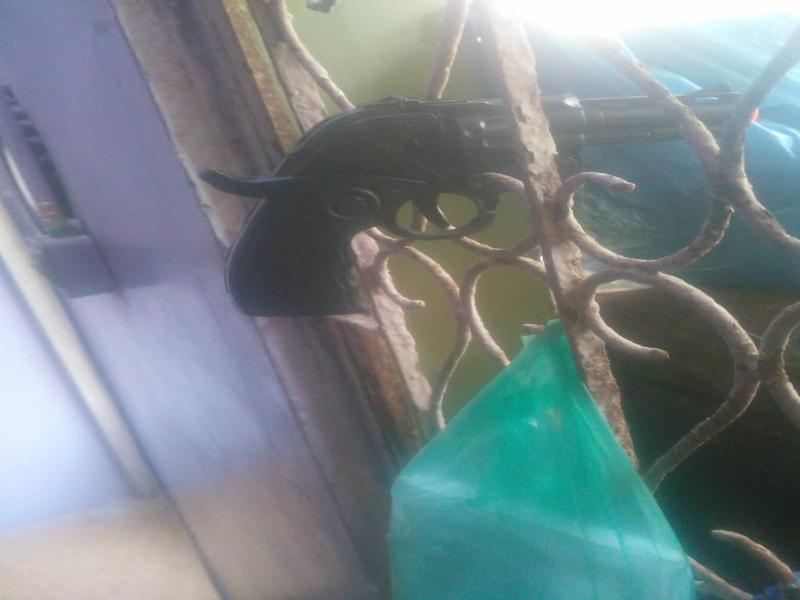gun: (196, 73, 766, 322)
